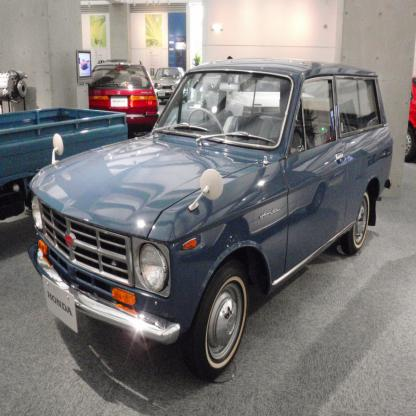Car: (26, 55, 392, 379), (405, 75, 416, 161)
